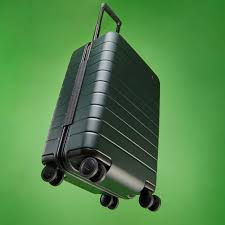suitcase: (34, 4, 165, 212)
